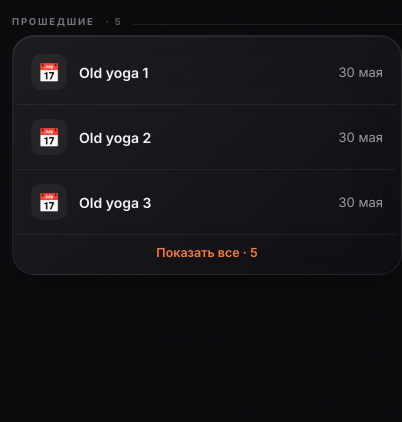
Test: ActivityFeedList › три последних прошедших видны сразу, хвост — за «Показать все» (PO 2026-09-14)
This screenshot has width=402, height=422.
Expected: the text "Прошедшие" is shown, [12,16,95,27]
Expected: the text "· 5" is shown, [106,16,122,27]
Click the button "Показать все · 5": (207, 252) [17,234,397,270]
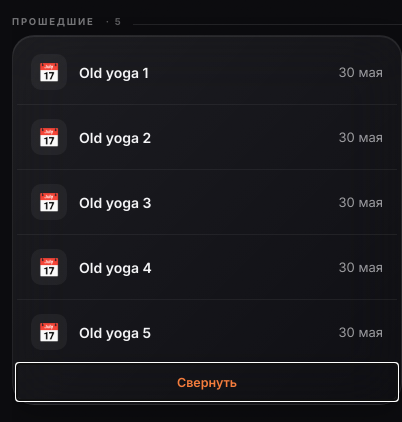
Now the number of buttons with class "rd-rep-row" is 5, box [17,40,397,104]; [17,104,397,169]; [17,169,397,234]; [17,234,397,299]; [17,299,397,364]
Now the text "Old yoga 5" is shown, box [79,324,151,340]
Click the button "Свернуть": (207, 382) [17,364,397,400]
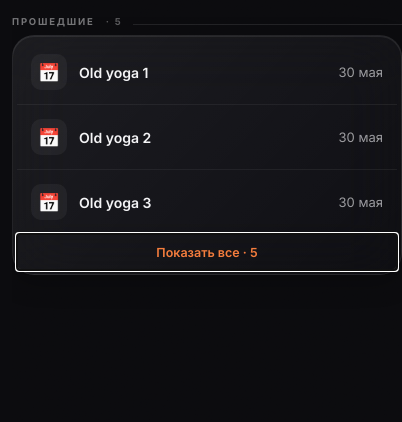
Now the number of buttons with class "rd-rep-row" is 3, box [17,40,397,104]; [17,104,397,169]; [17,169,397,234]
